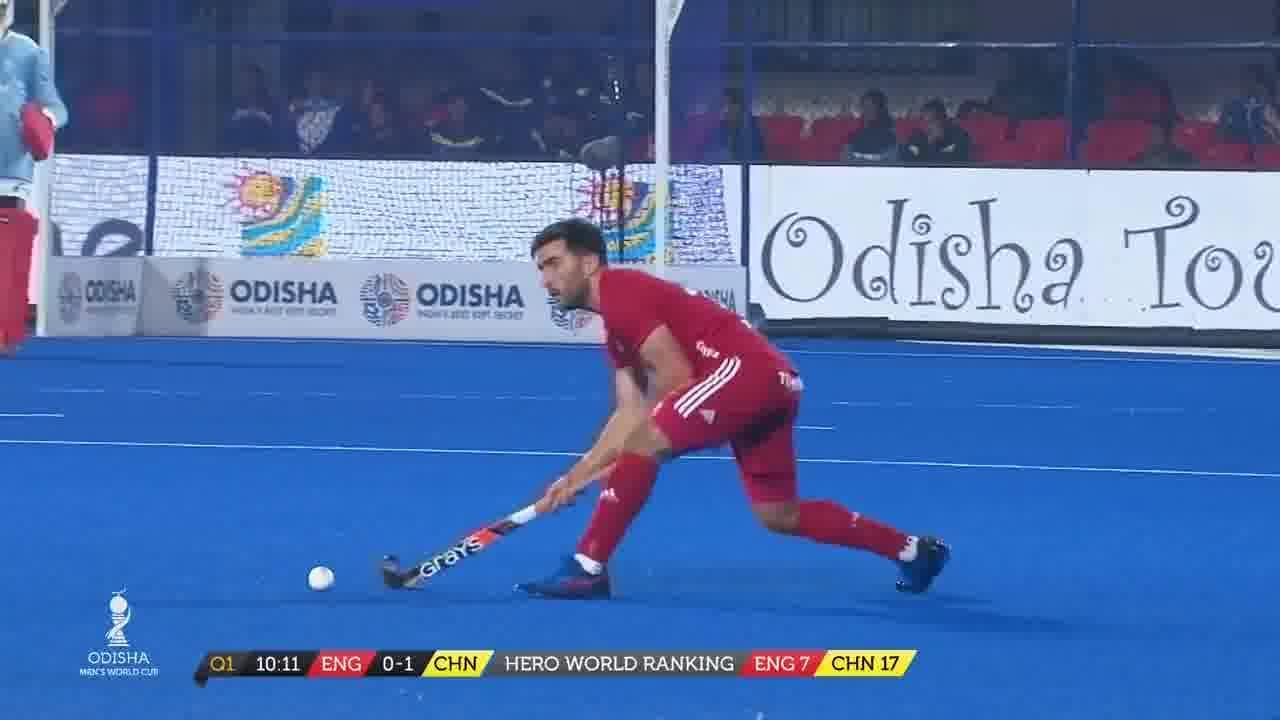ball: (302, 554, 342, 596)
